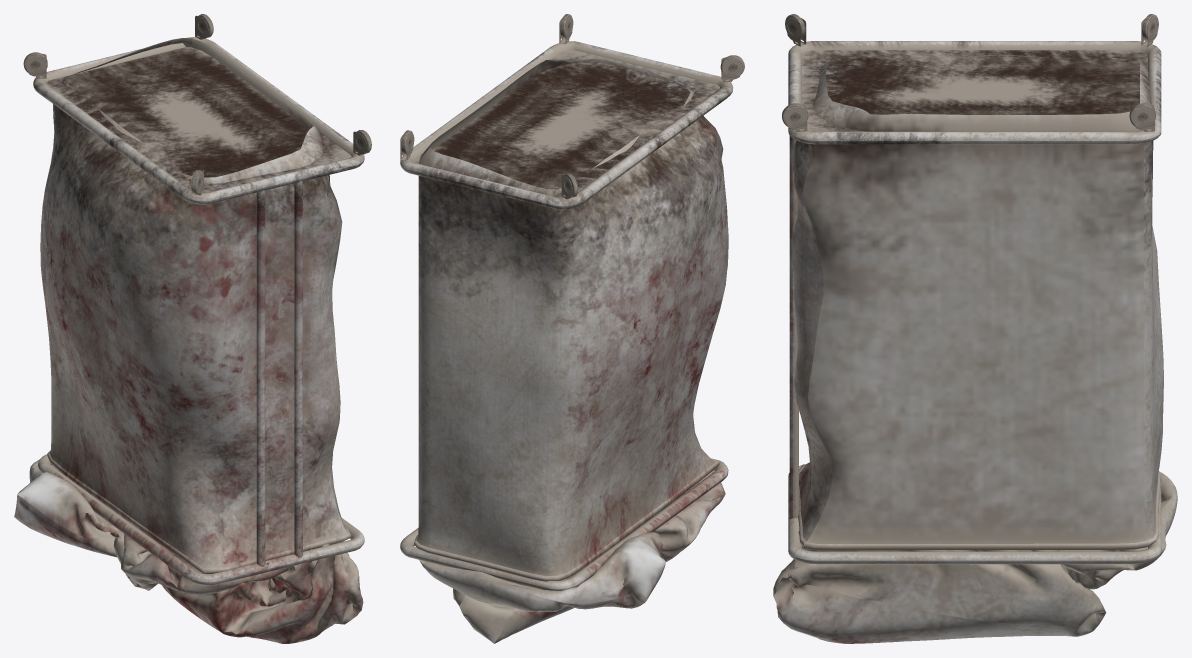
The model's file is bloody_cloth_laundry_basket.fbx.
The picture shows the model from 3 angles, left to right: view 1: azimuth 30°, elevation 25°; view 2: azimuth 150°, elevation 25°; view 3: azimuth 270°, elevation 25°; orthographic projection. The views are drawn at different scales.
Parts seen in each view (by area): view 1: polySurface368; view 2: polySurface368; view 3: polySurface368.
Boxes of the visible parts, bbox=[...] form: polySurface368: bbox=[14, 14, 371, 643]; polySurface368: bbox=[400, 14, 744, 643]; polySurface368: bbox=[773, 14, 1177, 643].
Bounding box in the file's own units: 0.0214 × 0.0456 × 0.0296.
1 material, 1 textured.
